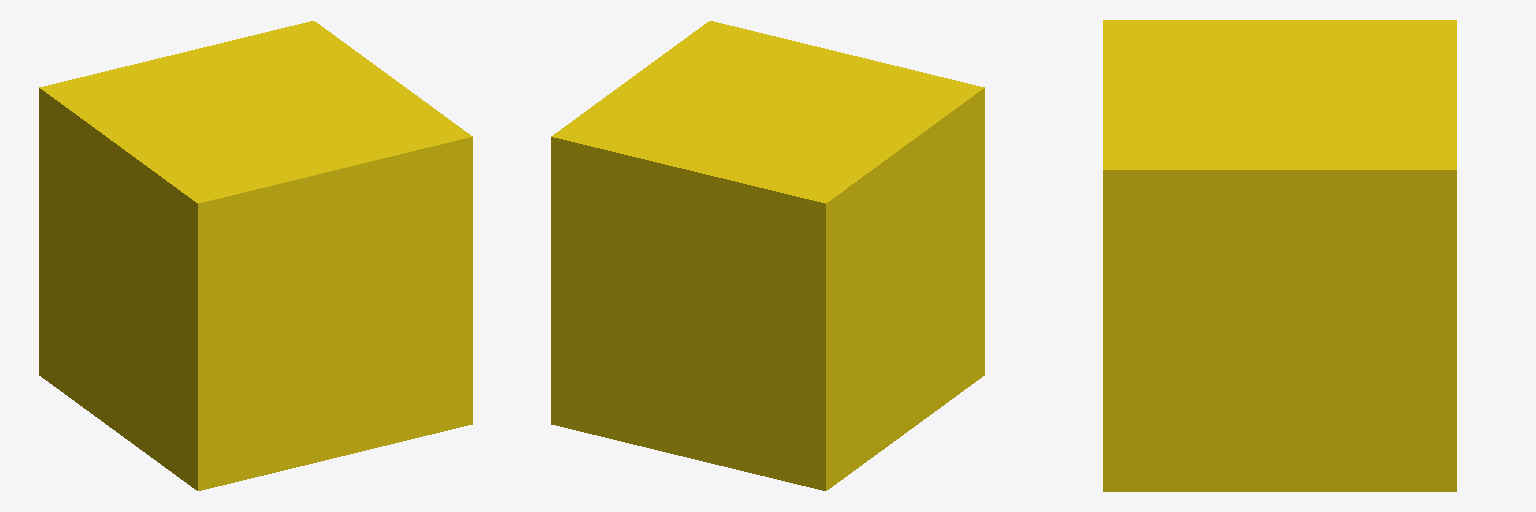
robot.urdf — yellow_cube:
<?xml version="1.0"?>
<robot name="yellow_cube">
  <link name="base_link">
    <contact>
      <lateral_friction value="0.9"/>
      <rolling_friction value="0.03"/>
      <spinning_friction value="0.03"/>
      <restitution value="0.0"/>
    </contact>
    <inertial>
      <origin rpy="0 0 0" xyz="0 0 0"/>
      <mass value="0.5"/>
      <inertia ixx="0.001" ixy="0" ixz="0" iyy="0.001" iyz="0" izz="0.001"/>
    </inertial>
    <visual>
      <origin rpy="0 0 0" xyz="0 0 0"/>
      <geometry>
        <box size="0.12 0.12 0.12"/>
      </geometry>
      <material name="yellow">
        <color rgba="0.950 0.850 0.120 1.000"/>
      </material>
    </visual>
    <collision>
      <origin rpy="0 0 0" xyz="0 0 0"/>
      <geometry>
        <box size="0.12 0.12 0.12"/>
      </geometry>
    </collision>
  </link>
</robot>

--- Facts derived from the render (not from the file) ---
Views: 3 orthographic renders of the robot side by side, from view 1: azimuth 30°, elevation 25°; view 2: azimuth 150°, elevation 25°; view 3: azimuth 270°, elevation 25°.
Model yellow_cube with 1 links and 0 joints (none), rooted at base_link, posed every joint at zero.
Links seen in each view (by area): view 1: base_link; view 2: base_link; view 3: base_link.
Boxes of the visible links, x1,y1,x2,y2 form: base_link: (39,21,472,490); base_link: (551,21,984,490); base_link: (1103,20,1456,491).
Bounding box of the posed robot: 0.12 × 0.12 × 0.12 m (x, y, z).
Geometry: primitives only (box / cylinder / sphere), no mesh files.
